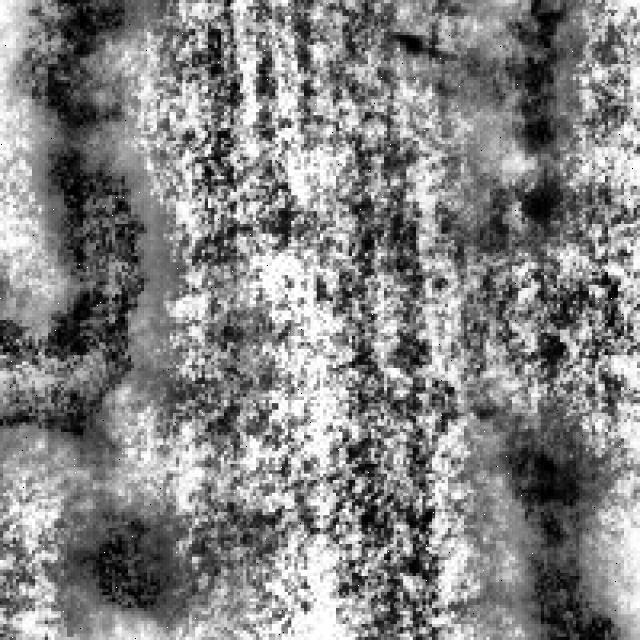Scratches: (0, 99, 166, 457), (483, 422, 621, 637), (426, 0, 580, 160), (64, 480, 182, 621), (0, 0, 134, 118)
